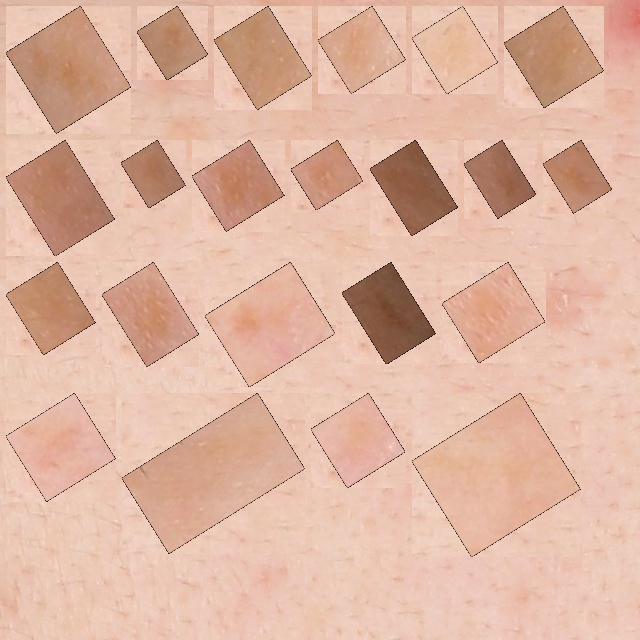melasma: (133, 404, 294, 542), (423, 404, 569, 546), (216, 273, 324, 376), (17, 17, 120, 122), (17, 151, 104, 245), (17, 404, 104, 490), (453, 273, 534, 352), (515, 17, 593, 97), (225, 17, 301, 98), (113, 273, 188, 355), (353, 273, 425, 353), (322, 404, 394, 477), (381, 151, 447, 225), (203, 151, 273, 220), (17, 273, 84, 344), (329, 17, 395, 82), (423, 17, 487, 83), (475, 151, 525, 207), (148, 17, 197, 69), (302, 151, 352, 199), (554, 151, 601, 202), (132, 151, 175, 197)
